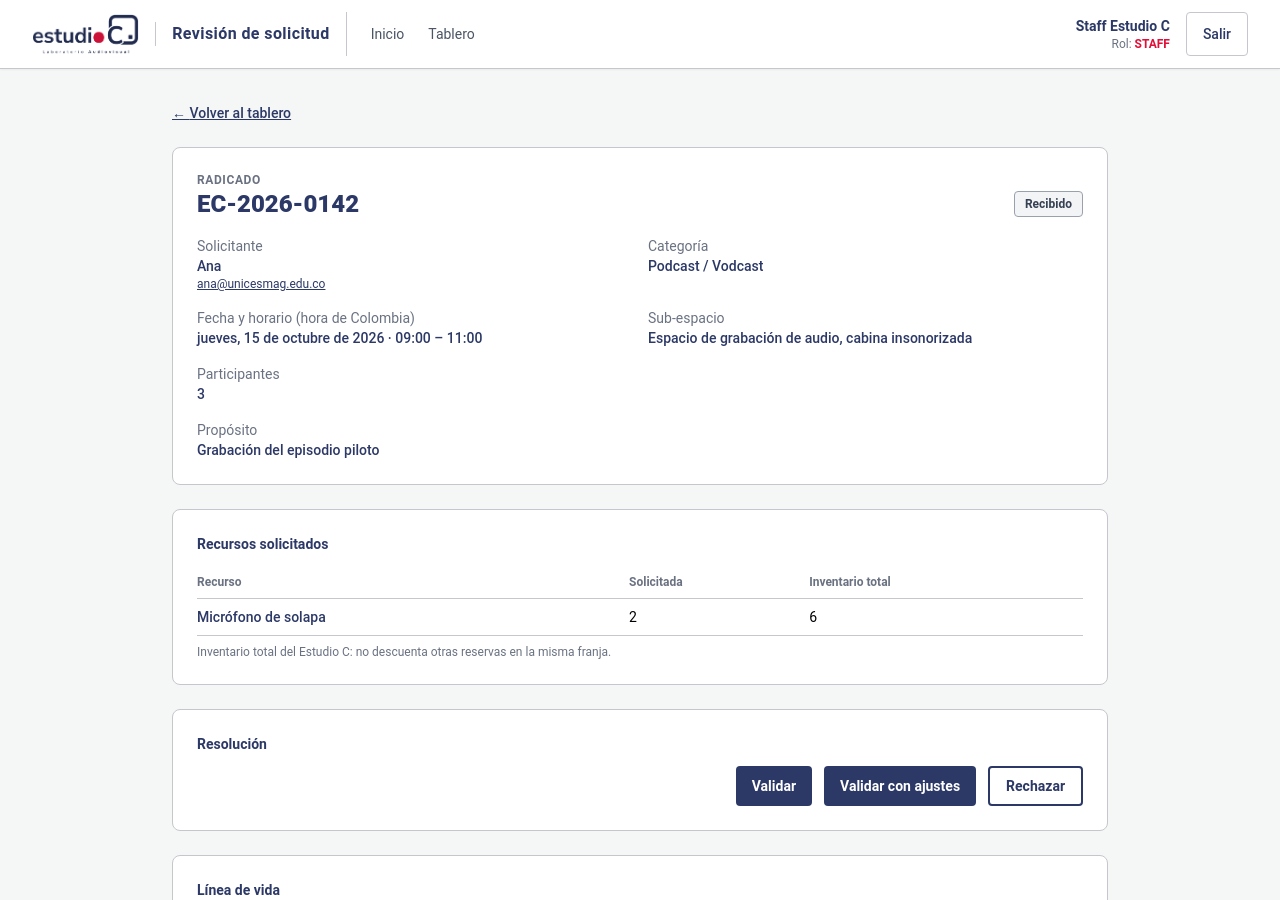
Scenario: DetalleStaff · acciones T1, T2, T4 y T9 (6.5.3) › DA2 · mientras recarga: se ve el detalle anterior (sin parpadeo) con las acciones bloqueadas
The width and height of the screenshot is (1280, 900).
Click the button "Validar": x=774, y=786 [736,766,812,806]
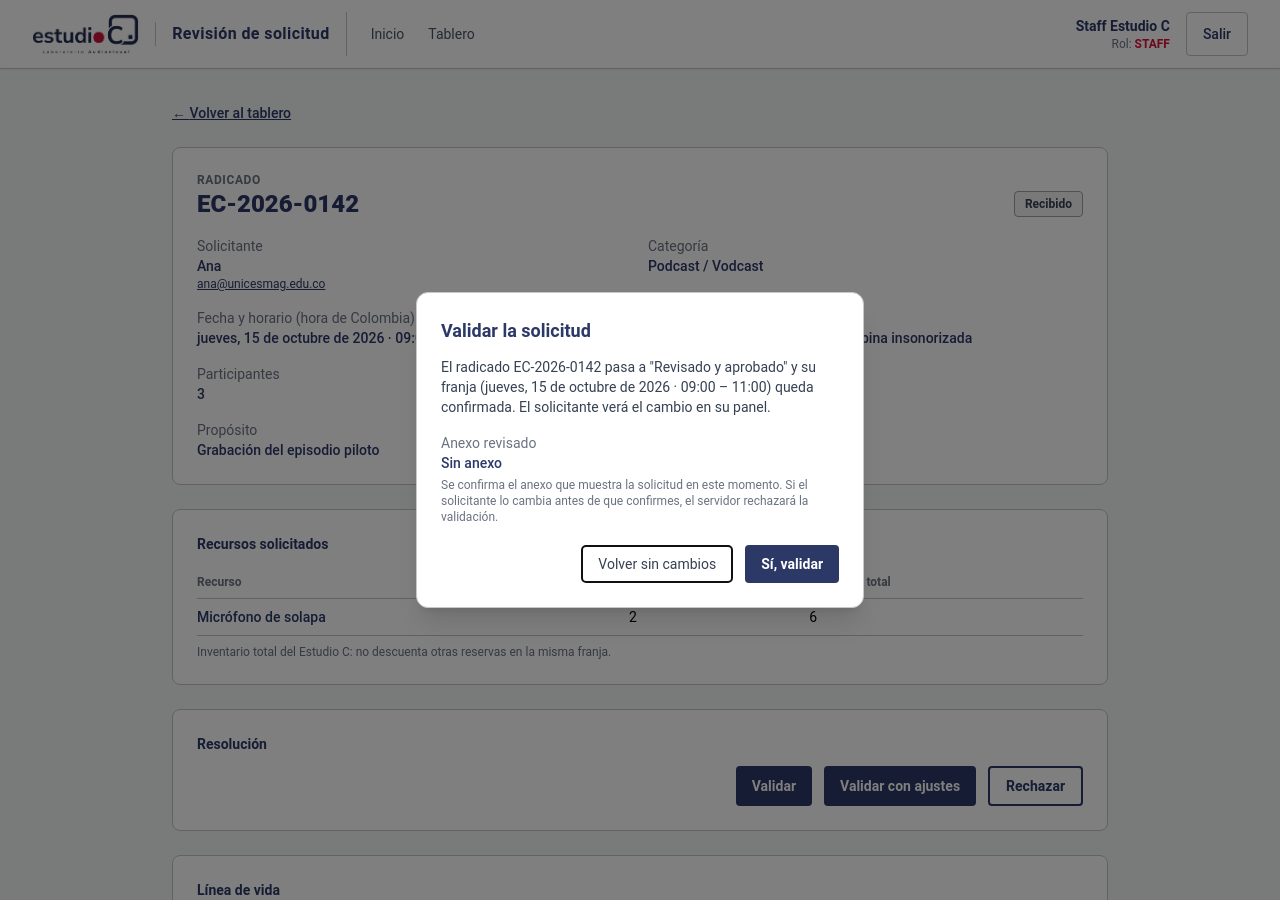
Click the button "Sí, validar": x=792, y=564 [745,545,839,583]
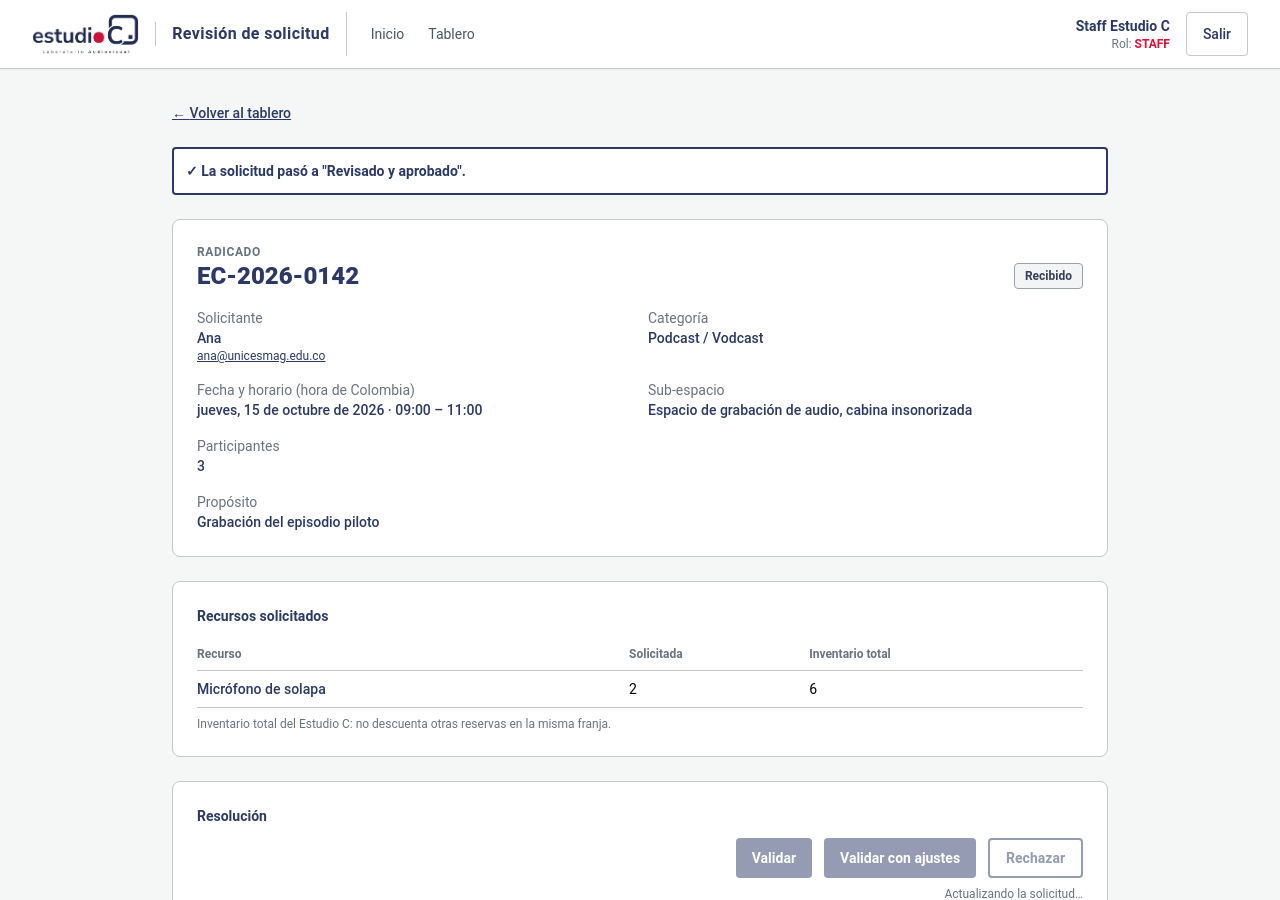
Expected: the text "Actualizando la solicitud…" is shown, [944,887,1083,899]
Expected: the button "Validar" is disabled, [736,838,812,878]
Expected: the button "Validar con ajustes" is disabled, [824,838,976,878]
